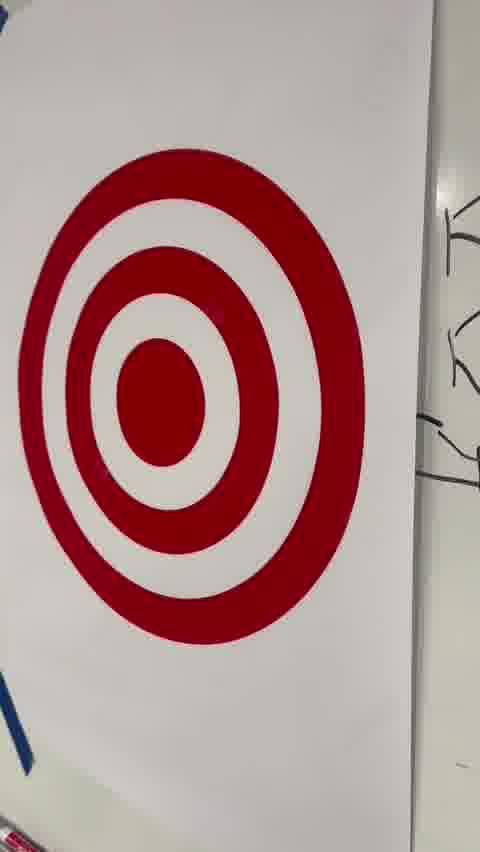target_red: (18, 147, 367, 645)
